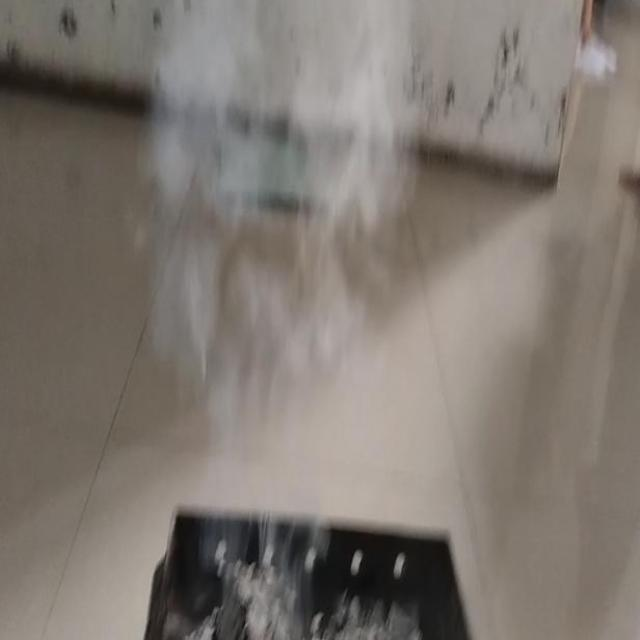fire: (132, 3, 420, 400)
